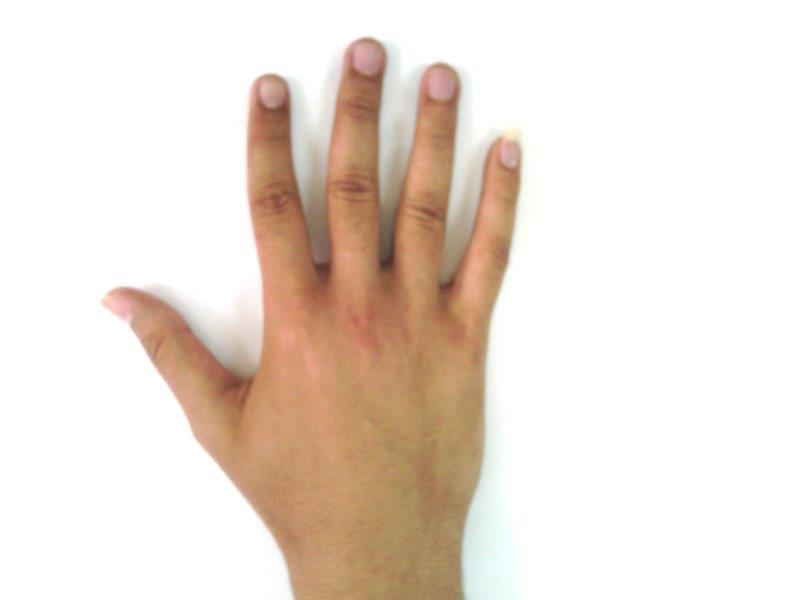hand: (102, 38, 522, 533)
